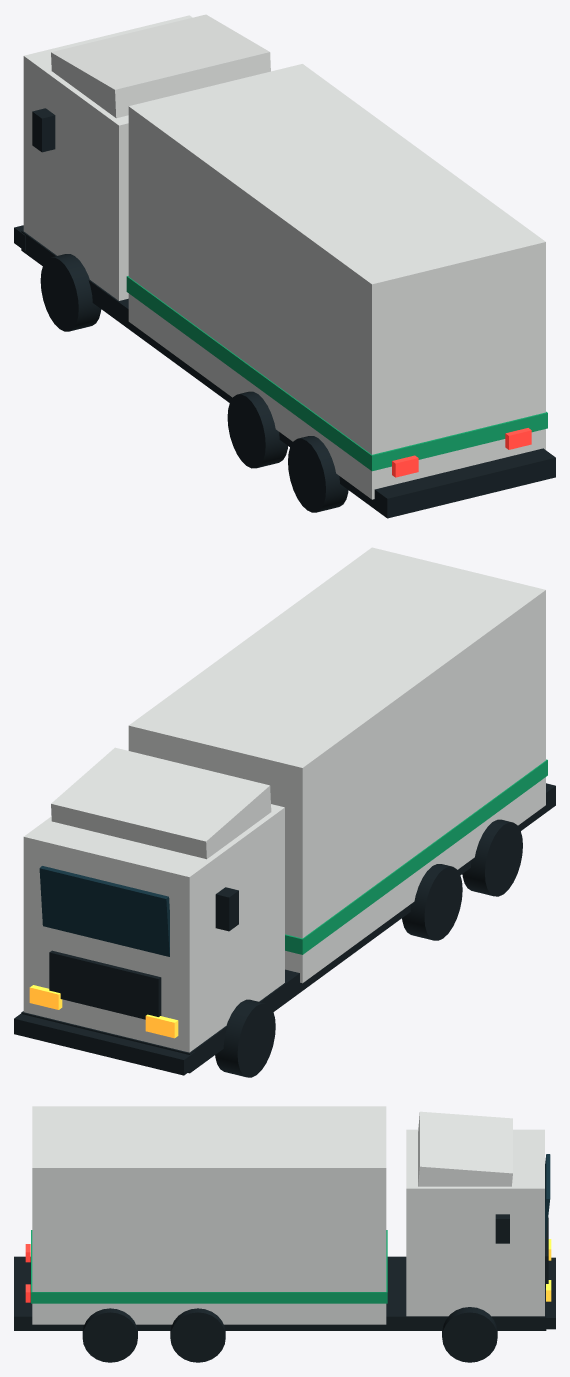
The model's file is cargo-truck.glb.
The picture shows the model from 3 angles, top to bottom: view 1: azimuth 30°, elevation 25°; view 2: azimuth 150°, elevation 25°; view 3: azimuth 270°, elevation 25°; orthographic projection. The views are drawn at different scales.
Parts seen in each view (by area): view 1: trailer, cab, cab-roof, chassis, route-cargo-stripe, wheel--1.29--3.1, wheel--1.29-1.7, wheel--1.29-3.25, left-mirror; view 2: trailer, cab, cab-roof, windshield, grille, route-cargo-stripe, bumper, chassis, wheel--1.29--3.1, wheel--1.29-3.25, wheel--1.29-1.7, left-mirror; view 3: trailer, cab, cab-roof, chassis, route-cargo-stripe, wheel-1.29--3.1, wheel-1.29-1.7, wheel-1.29-3.25, bumper, right-mirror, windshield.
Part boxes in pixels (bbox=[...]): trailer: bbox=[128, 64, 545, 499]; cab: bbox=[23, 15, 192, 300]; cab-roof: bbox=[51, 14, 270, 118]; chassis: bbox=[21, 230, 555, 518]; route-cargo-stripe: bbox=[126, 276, 547, 471]; wheel--1.29--3.1: bbox=[40, 254, 101, 331]; wheel--1.29-1.7: bbox=[227, 391, 287, 468]; wheel--1.29-3.25: bbox=[288, 436, 348, 512]; left-mirror: bbox=[32, 108, 55, 152]; trailer: bbox=[128, 547, 545, 983]; cab: bbox=[23, 804, 284, 1052]; cab-roof: bbox=[51, 747, 271, 859]; windshield: bbox=[39, 866, 169, 956]; grille: bbox=[49, 950, 161, 1019]; route-cargo-stripe: bbox=[285, 759, 547, 954]; bumper: bbox=[14, 1013, 194, 1075]; chassis: bbox=[21, 783, 555, 1073]; wheel--1.29--3.1: bbox=[215, 999, 275, 1077]; wheel--1.29-3.25: bbox=[462, 819, 522, 896]; wheel--1.29-1.7: bbox=[402, 864, 462, 940]; left-mirror: bbox=[215, 887, 238, 931]; trailer: bbox=[32, 1106, 386, 1324]; cab: bbox=[406, 1129, 544, 1316]; cab-roof: bbox=[418, 1111, 512, 1186]; chassis: bbox=[14, 1256, 546, 1330]; route-cargo-stripe: bbox=[31, 1230, 387, 1303]; wheel-1.29--3.1: bbox=[442, 1307, 497, 1362]; wheel-1.29-1.7: bbox=[170, 1308, 225, 1362]; wheel-1.29-3.25: bbox=[82, 1308, 137, 1362]; bumper: bbox=[540, 1257, 555, 1329]; right-mirror: bbox=[495, 1214, 509, 1243]; windshield: bbox=[545, 1154, 550, 1242].
Bounding box in the file's own units: 2.92 × 3.71 × 9.57.
